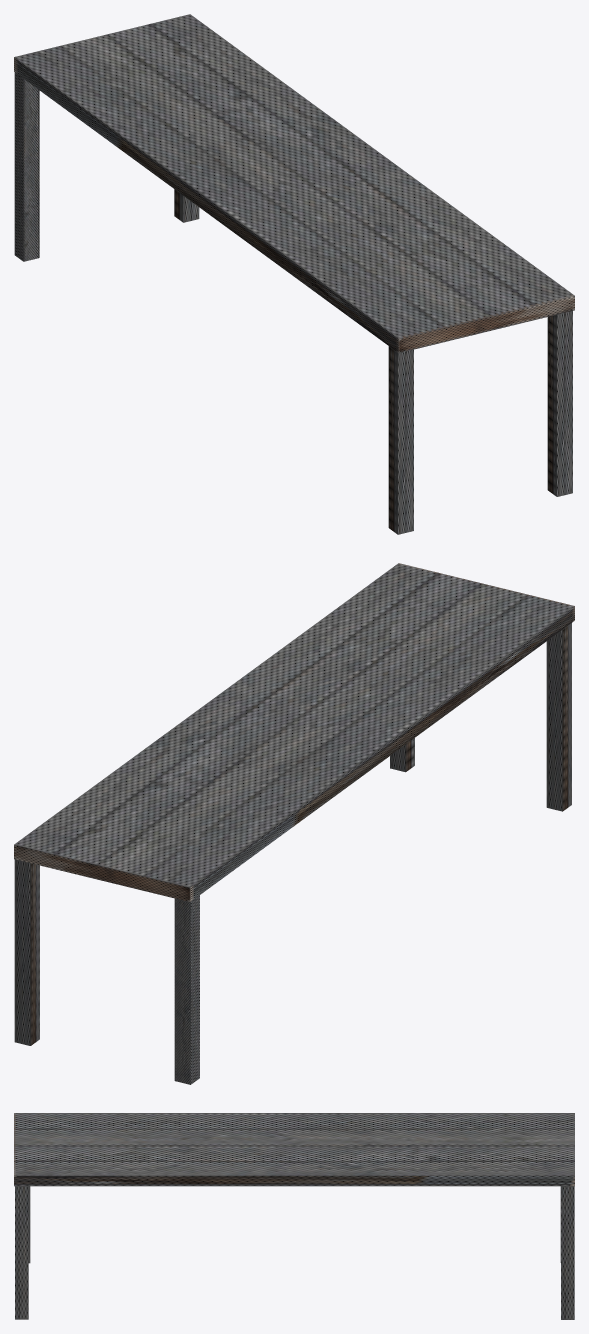
Rendered from table.fbx.
The picture shows the model from 3 angles, top to bottom: view 1: azimuth 30°, elevation 25°; view 2: azimuth 150°, elevation 25°; view 3: azimuth 270°, elevation 25°; orthographic projection. The views are drawn at different scales.
Visible parts, largest first — view 1: Cube, Cube.003, Cube.004, Cube.001; view 2: Cube, Cube.001, Cube.002, Cube.003; view 3: Cube, Cube.002, Cube.004.
Part boxes in pixels (x1,y1,x2,y2): Cube: [14, 14, 574, 352]; Cube.003: [388, 346, 413, 534]; Cube.004: [547, 311, 572, 496]; Cube.001: [14, 72, 39, 261]; Cube: [14, 563, 574, 901]; Cube.001: [174, 895, 199, 1084]; Cube.002: [14, 859, 39, 1045]; Cube.003: [546, 623, 571, 811]; Cube: [14, 1113, 574, 1186]; Cube.002: [561, 1186, 574, 1319]; Cube.004: [15, 1186, 28, 1319].
Size of the model in its own units: 200 by 214 by 756.
Materials: 2 (2 with a texture image).
